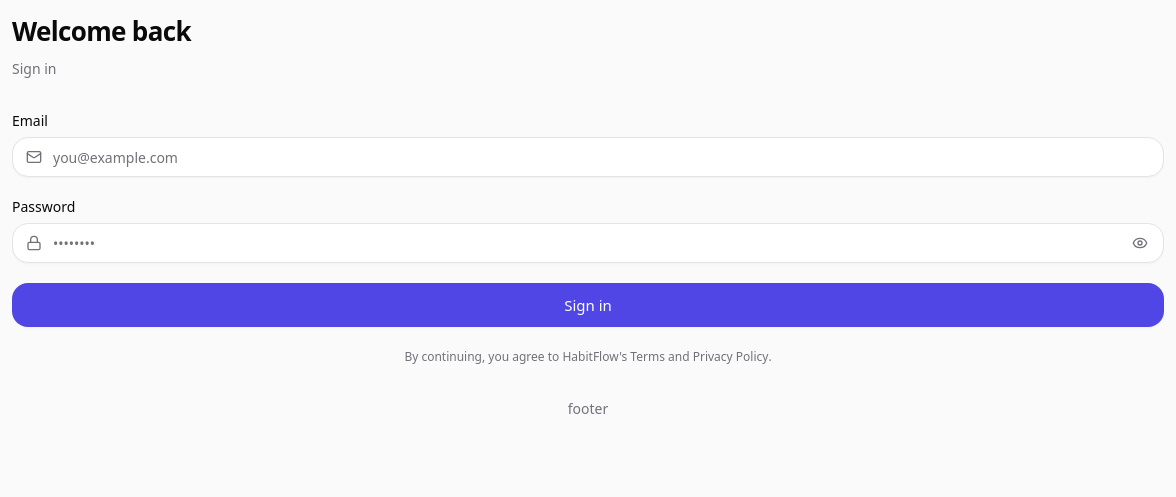
Test: AuthForm › falls back to a demo session when the API is unreachable
In the field labelled "Email": coordinates (588, 157) [12,137,1164,177], type "sara@example.com"
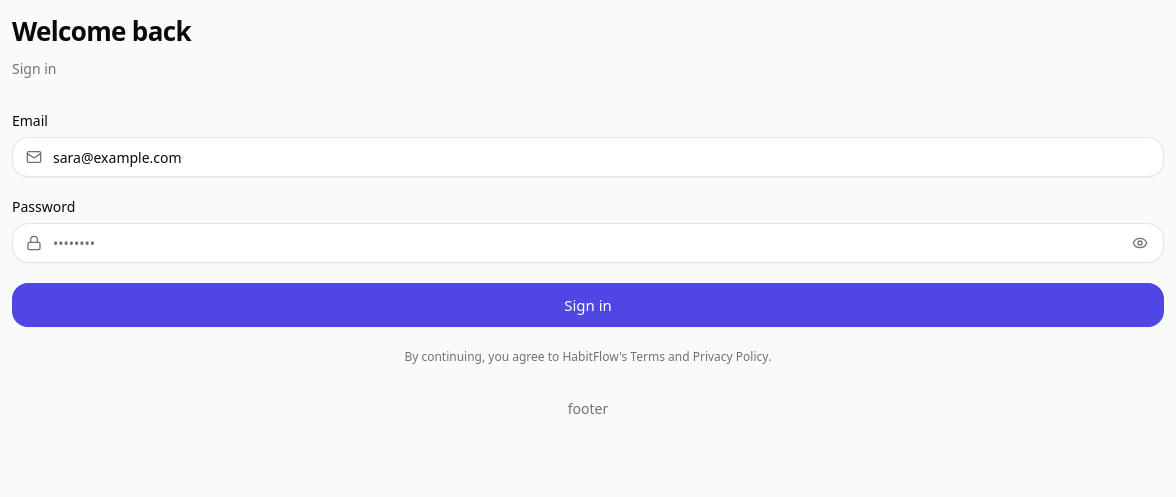
In the password field labelled "Password": coordinates (588, 243) [12,223,1164,263], type "password123"
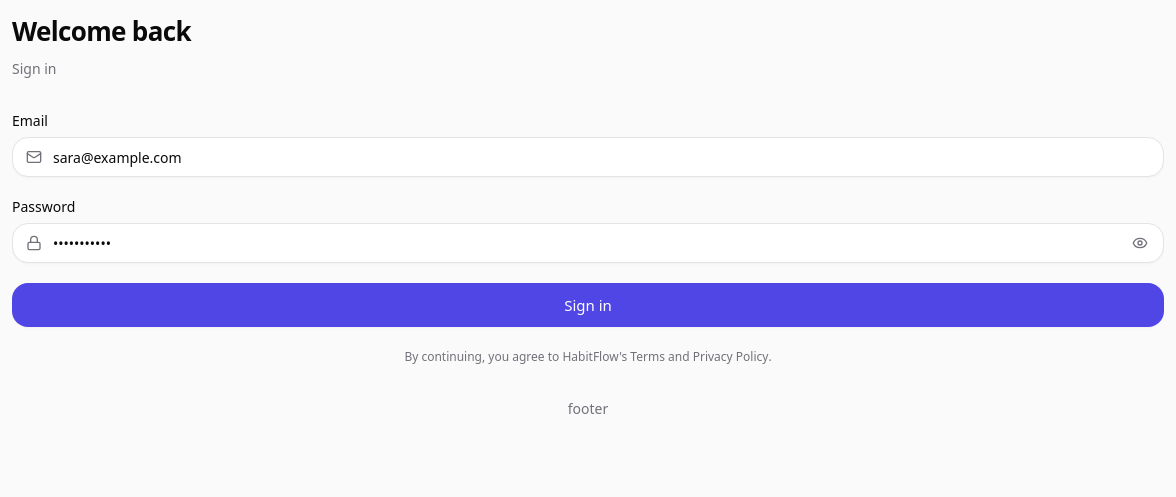
Submit the form "Sign in", box [12,111,1164,366]
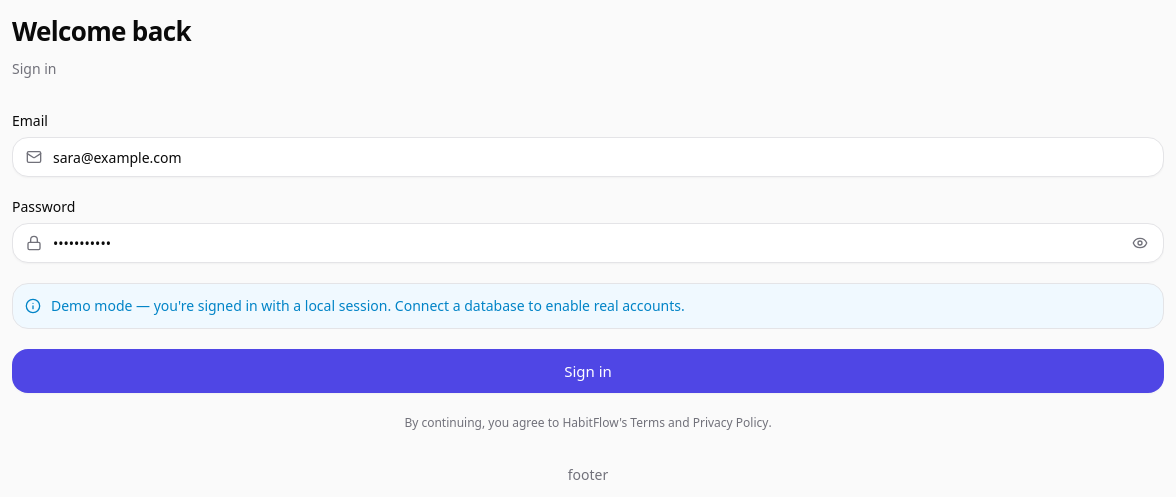
Expected: the message shows "Demo", [51,296,685,315]
